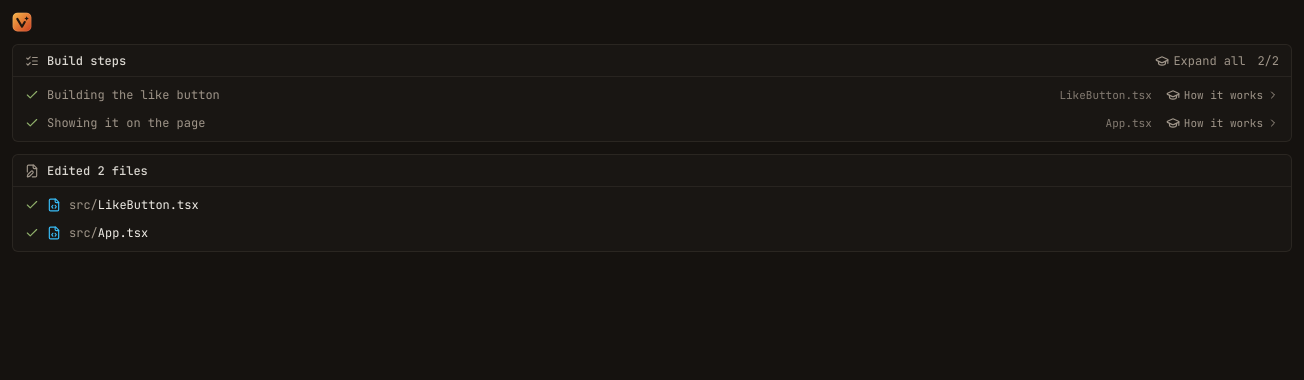
Test: walkthroughs in the chat › open just the file the learner picks
Click the button "How it works" in the row of "Building the like button" at x=1222, y=95, box [1160, 83, 1285, 107]
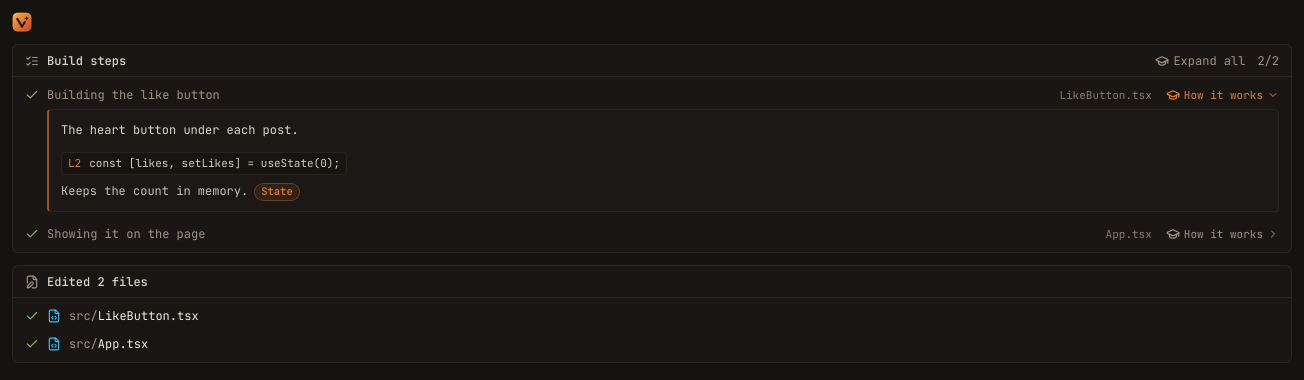
Now the text "The heart button under each post." is shown, box [61, 122, 299, 138]
Now the text "Keeps the count in memory." is shown, box [61, 183, 248, 199]
Now the text "State" is shown, box [254, 183, 300, 201]
Click the button "How it works" in the row of "Building the like button" at x=1222, y=95, box [1160, 83, 1285, 107]
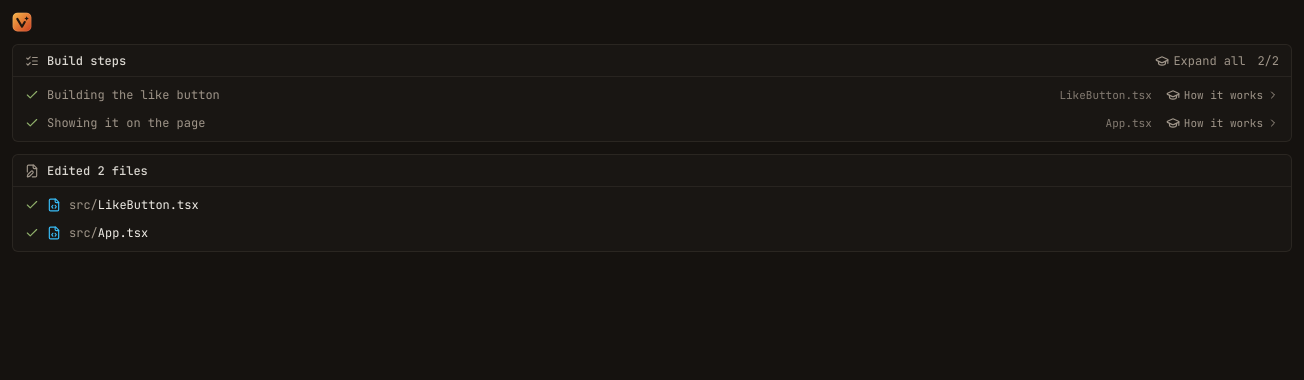
Now the text "The heart button under each post." is gone
